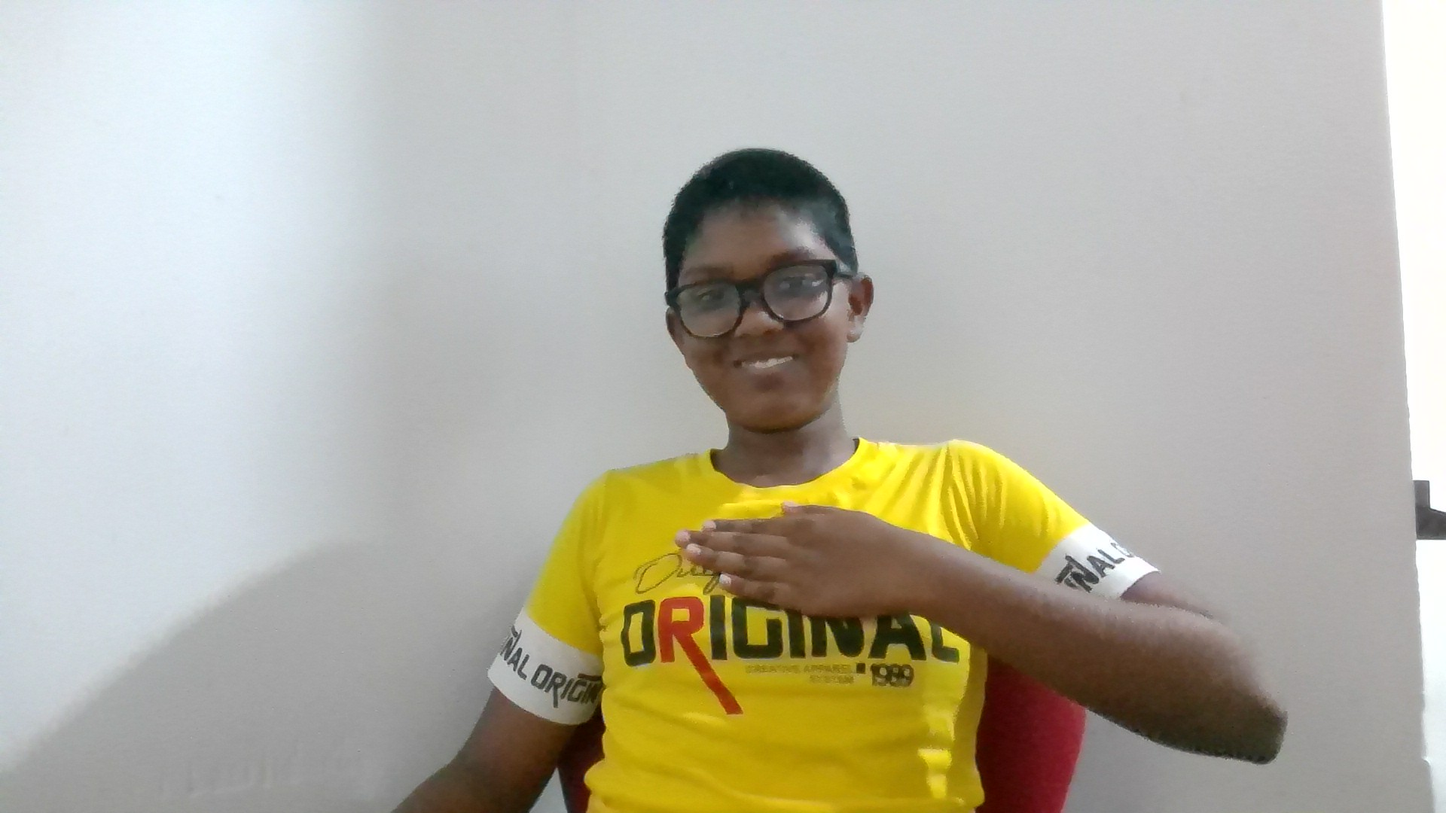Please: (635, 479, 996, 649)
